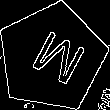M_SW: (20, 25, 84, 90)
